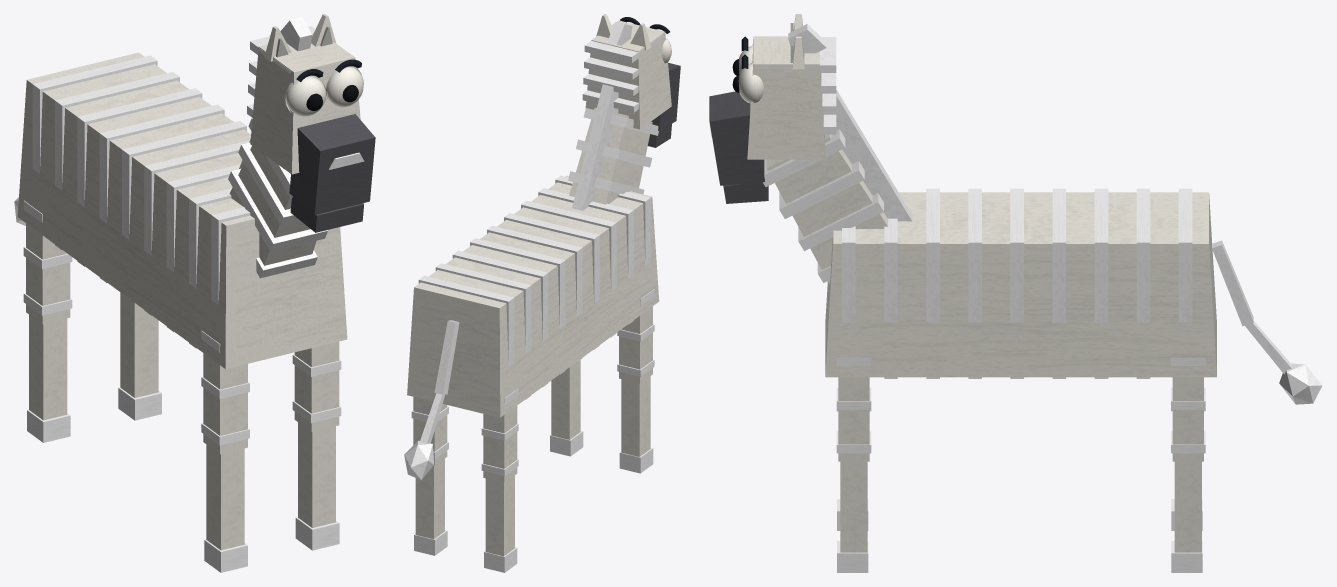
File: zebra.glb
3 views of the same model, side by side, from view 1: azimuth 30°, elevation 25°; view 2: azimuth 150°, elevation 25°; view 3: azimuth 270°, elevation 25° (orthographic). The views are drawn at different scales.
Visible parts, largest first — view 1: body, head, neck, kneeBR, kneeFR, kneeFL, kneeBL, legFR, legBR, legFL, jaw, earR (+1 smaller); view 2: body, head, neck, kneeFR, kneeBR, kneeFL, kneeBL, legBR, legFR, tail2, legBL, tail; view 3: body, head, neck, kneeFL, kneeBL, legFL, legBL, tail2, tail, jaw.
Part boxes in pixels (x1,y1,x2,y2): body: (17,52,347,369); head: (247,17,375,214); neck: (228,118,327,278); kneeBR: (27,315,70,442); kneeFR: (204,444,247,572); kneeFL: (295,422,339,550); kneeBL: (118,292,161,420); legFR: (201,330,249,454); legBR: (23,200,72,324); legFL: (292,341,341,431); jaw: (290,196,363,232); earR: (264,26,291,61); body: (407,175,659,417); head: (582,17,680,130); neck: (568,84,658,210); kneeFR: (619,376,653,473); kneeBR: (484,475,517,572); kneeFL: (550,360,583,456); kneeBL: (414,458,447,555); legBR: (481,388,518,482); legFR: (617,289,654,383); tail2: (404,393,444,480); legBL: (411,396,448,465); tail: (434,320,459,394); body: (825,188,1216,378); head: (709,24,836,185); neck: (763,90,912,284); kneeFL: (837,461,868,572); kneeBL: (1171,461,1202,572); legFL: (836,357,871,461); legBL: (1171,357,1205,461); tail2: (1245,321,1322,404); tail: (1212,240,1253,326); jaw: (723,182,768,203).
Size of the model in its own units: 0.44 by 1.9 by 2.04.
Materials: 20 (17 with a texture image).
